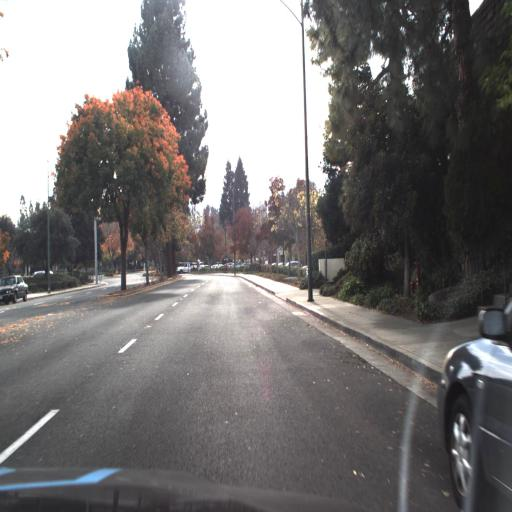car: (437, 293, 512, 510), (0, 275, 29, 303)
truck: (177, 262, 197, 275)
